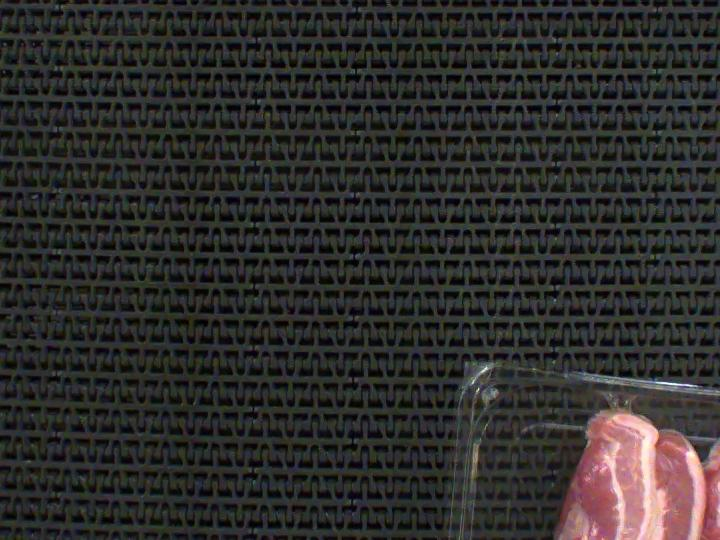packaging-error: (599, 384, 640, 417)
